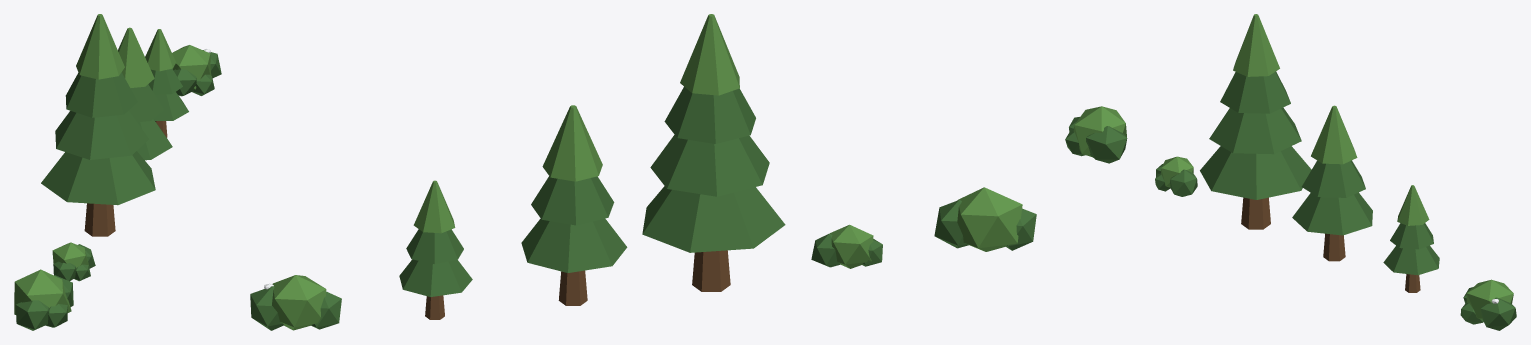
Rendered from AST13a.glb.
3 renders of one model, left to right at view 1: azimuth 30°, elevation 25°; view 2: azimuth 150°, elevation 25°; view 3: azimuth 270°, elevation 25°, orthographic. The views are drawn at different scales.
Visible parts, largest first — view 1: AST13a_Conifer_L, AST13a_Conifer_M, AST13a_Bush_M, AST13a_Conifer_S, AST13a_Shrub_Flower, AST13a_Bush_S; view 2: AST13a_Conifer_L, AST13a_Conifer_M, AST13a_Conifer_S, AST13a_Bush_M, AST13a_Shrub_Flower, AST13a_Bush_S; view 3: AST13a_Conifer_L, AST13a_Conifer_M, AST13a_Conifer_S, AST13a_Bush_M, AST13a_Shrub_Flower, AST13a_Bush_S.
Boxes of the visible parts, bbox=[...] form: AST13a_Conifer_L: bbox=[41, 14, 155, 236]; AST13a_Conifer_M: bbox=[118, 27, 172, 160]; AST13a_Bush_M: bbox=[14, 269, 73, 330]; AST13a_Conifer_S: bbox=[145, 29, 188, 137]; AST13a_Shrub_Flower: bbox=[172, 45, 221, 96]; AST13a_Bush_S: bbox=[52, 242, 95, 281]; AST13a_Conifer_L: bbox=[642, 14, 785, 291]; AST13a_Conifer_M: bbox=[521, 105, 627, 305]; AST13a_Conifer_S: bbox=[399, 180, 472, 319]; AST13a_Bush_M: bbox=[934, 187, 1036, 251]; AST13a_Shrub_Flower: bbox=[250, 275, 341, 330]; AST13a_Bush_S: bbox=[811, 224, 882, 268]; AST13a_Conifer_L: bbox=[1200, 14, 1311, 229]; AST13a_Conifer_M: bbox=[1292, 105, 1372, 261]; AST13a_Conifer_S: bbox=[1383, 185, 1439, 292]; AST13a_Bush_M: bbox=[1065, 106, 1127, 163]; AST13a_Shrub_Flower: bbox=[1460, 279, 1516, 330]; AST13a_Bush_S: bbox=[1155, 156, 1197, 196].
Size of the model in its own units: 10.03 by 5 by 9.79.
6 materials, 6 textured.
